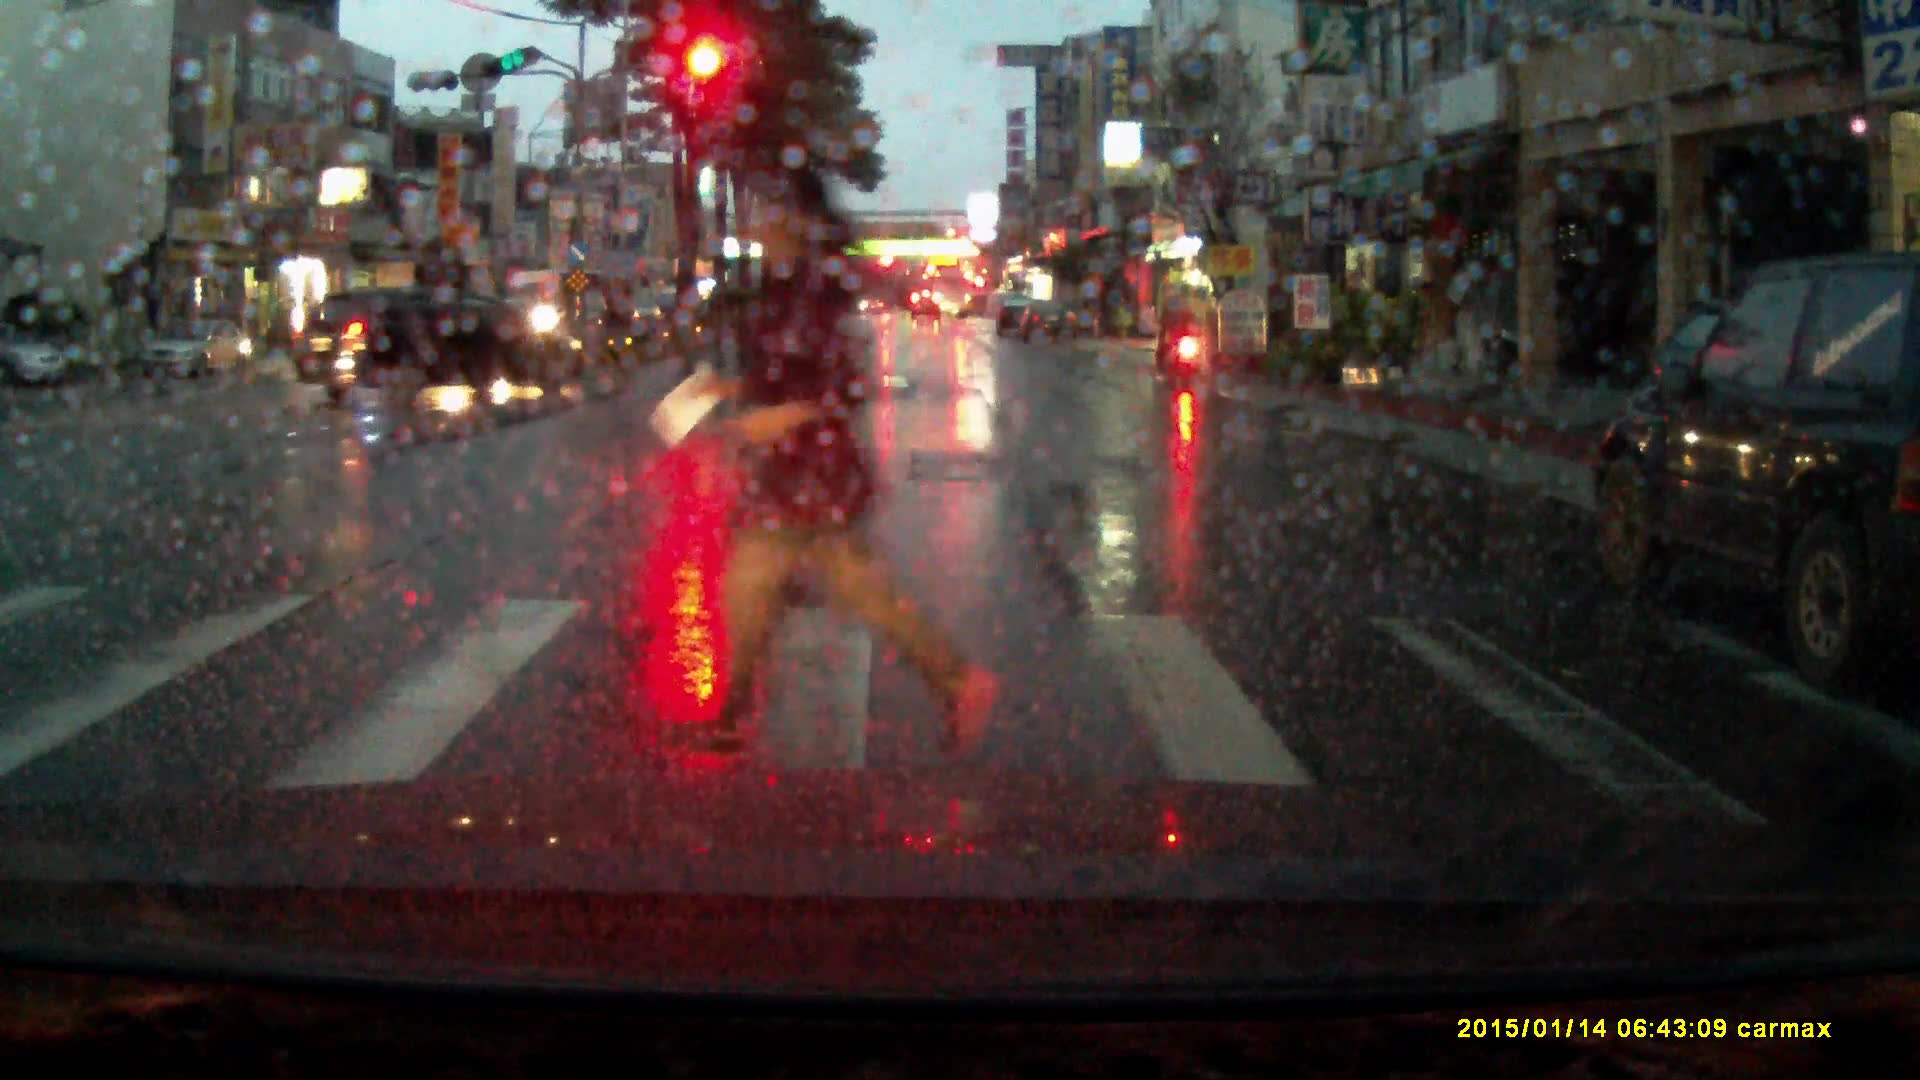pedestrian: (707, 171, 1002, 786)
rider: (1157, 273, 1211, 388)
vehicle: (1582, 248, 1920, 683), (280, 286, 582, 403), (431, 298, 546, 370), (142, 314, 253, 380), (494, 268, 591, 341), (574, 288, 664, 340), (1, 331, 69, 389), (1017, 300, 1079, 346), (931, 264, 973, 321), (995, 295, 1030, 338), (911, 291, 943, 322)
